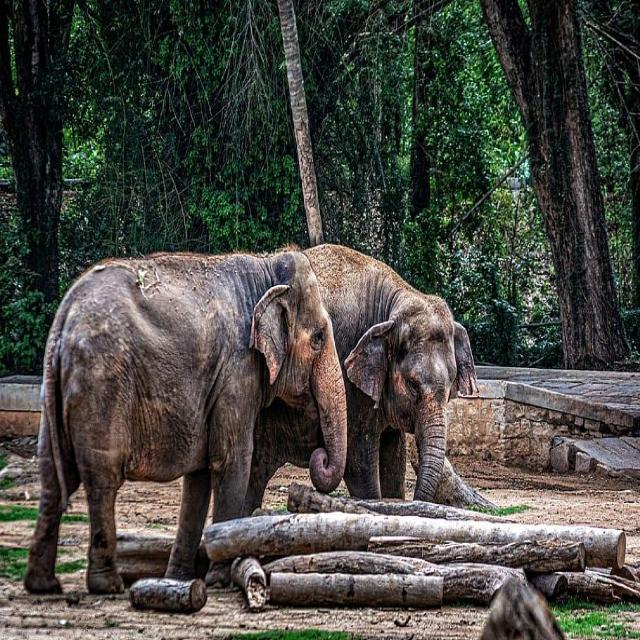Elephant: (22, 248, 345, 582), (245, 242, 478, 512)
